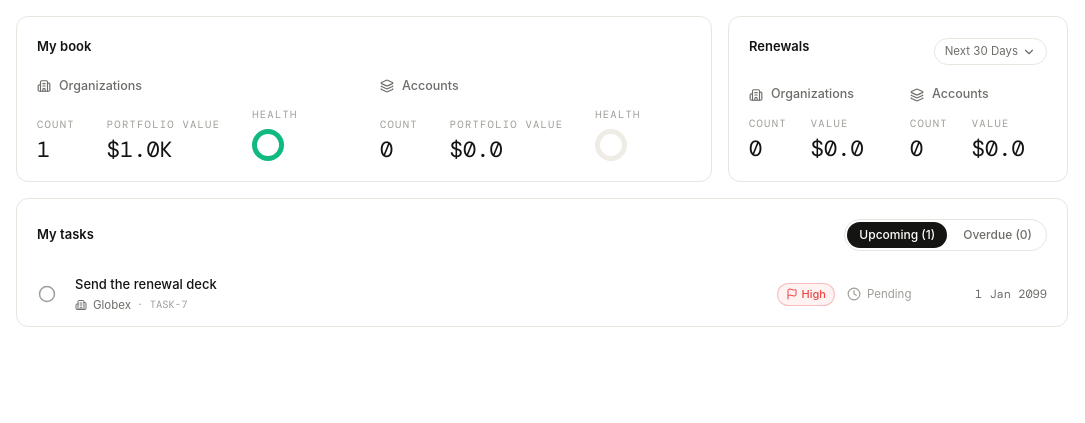
CockpitView tick-off › completes a task through the backend and drops it from the list
Click the button named "Mark \"Send the renewal deck\" complete": click(47, 294) [31,278,63,310]
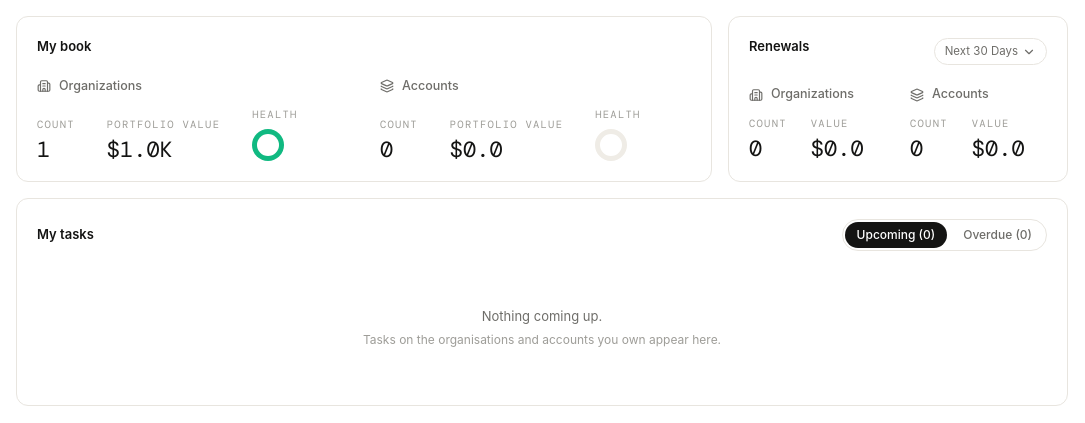
Result: the text "Send the renewal deck" is gone
Result: the tab "Upcoming (0)" is shown at [845,222,947,248]
